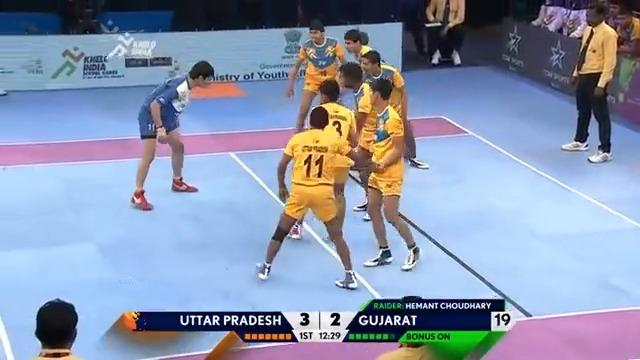Player: (253, 104, 360, 290), (356, 76, 423, 272), (357, 49, 429, 169), (283, 21, 336, 84), (347, 30, 360, 50)
Raider: (129, 59, 215, 210)
referee: (560, 0, 619, 163), (27, 297, 86, 359), (424, 0, 466, 66)
